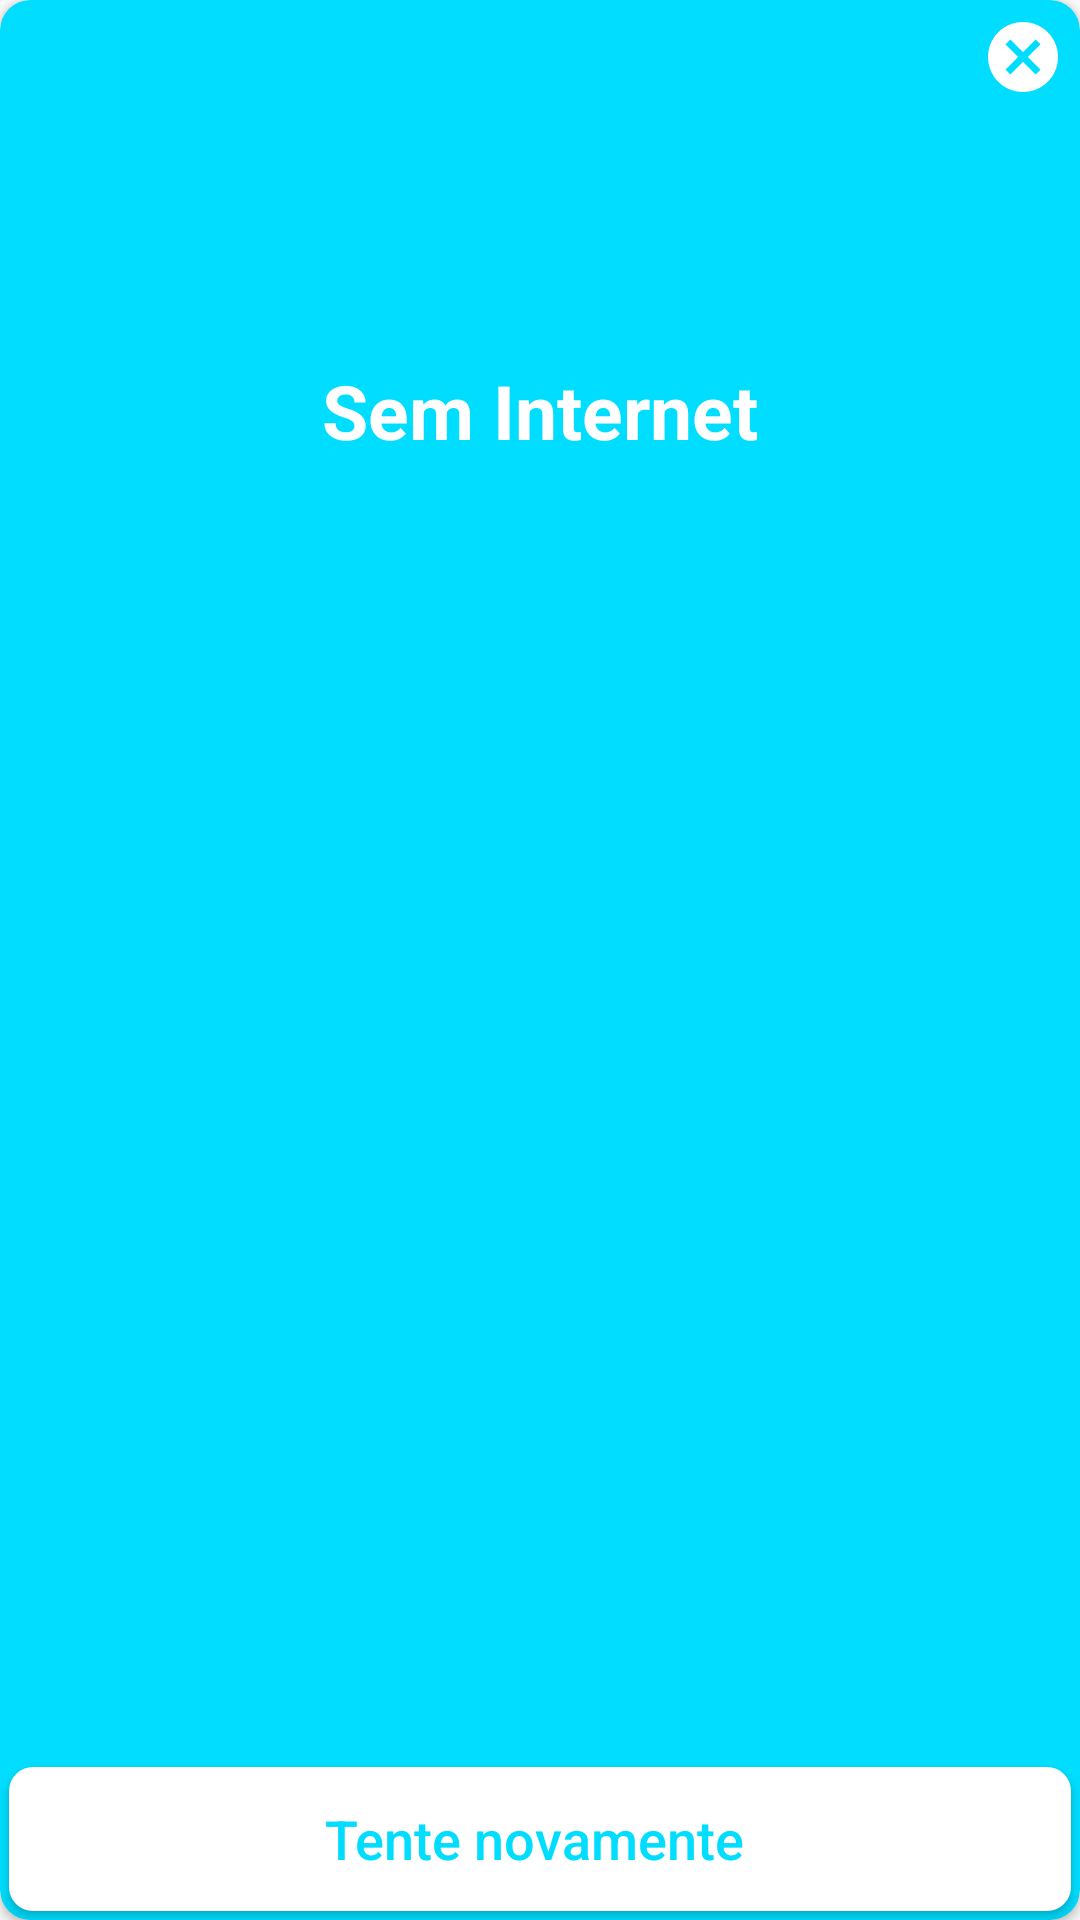

Screen size 1080 × 1920. Icon name, then its box in pixels as (x1, y1, x2, y2):
cancel: (988, 0, 1080, 92)
